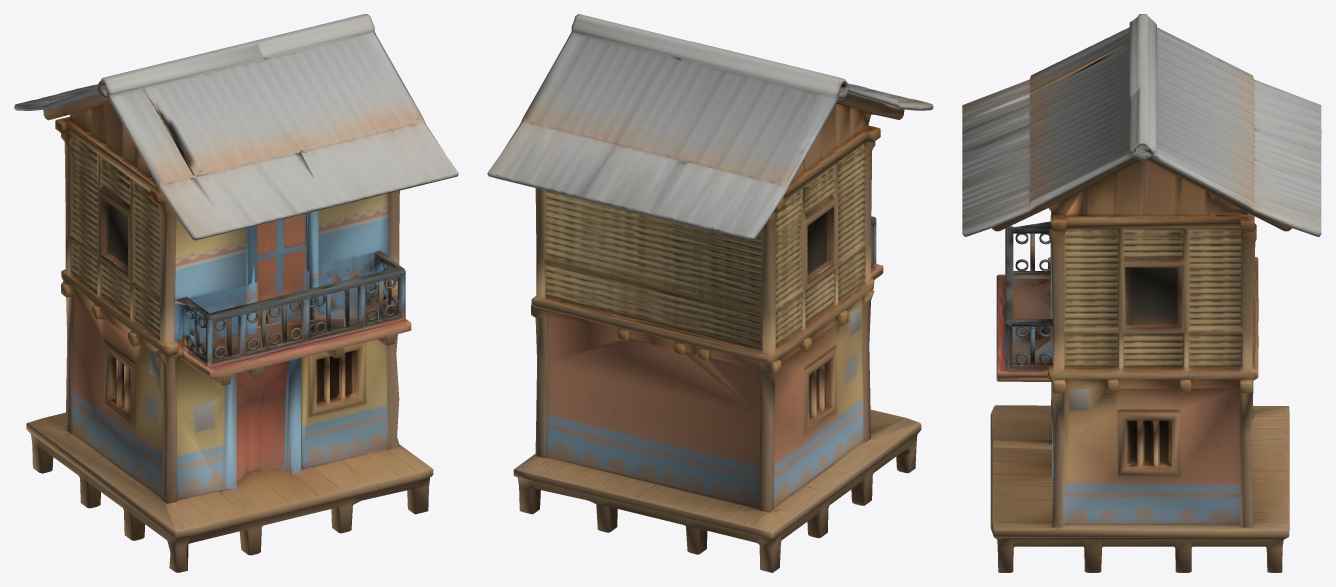
File: casa rio.fbx
3 renders of one model, left to right at view 1: azimuth 30°, elevation 25°; view 2: azimuth 150°, elevation 25°; view 3: azimuth 270°, elevation 25°, orthographic.
Visible parts, largest first — view 1: mesh_rep_0_ori_repair_quad; view 2: mesh_rep_0_ori_repair_quad; view 3: mesh_rep_0_ori_repair_quad.
Part boxes in pixels (x1=…): mesh_rep_0_ori_repair_quad: x1=14, y1=14, x2=458, y2=572; mesh_rep_0_ori_repair_quad: x1=487, y1=14, x2=933, y2=572; mesh_rep_0_ori_repair_quad: x1=962, y1=14, x2=1321, y2=572.
Size of the model in its own units: 523 by 815 by 606.
Materials: 1 (1 with a texture image).
